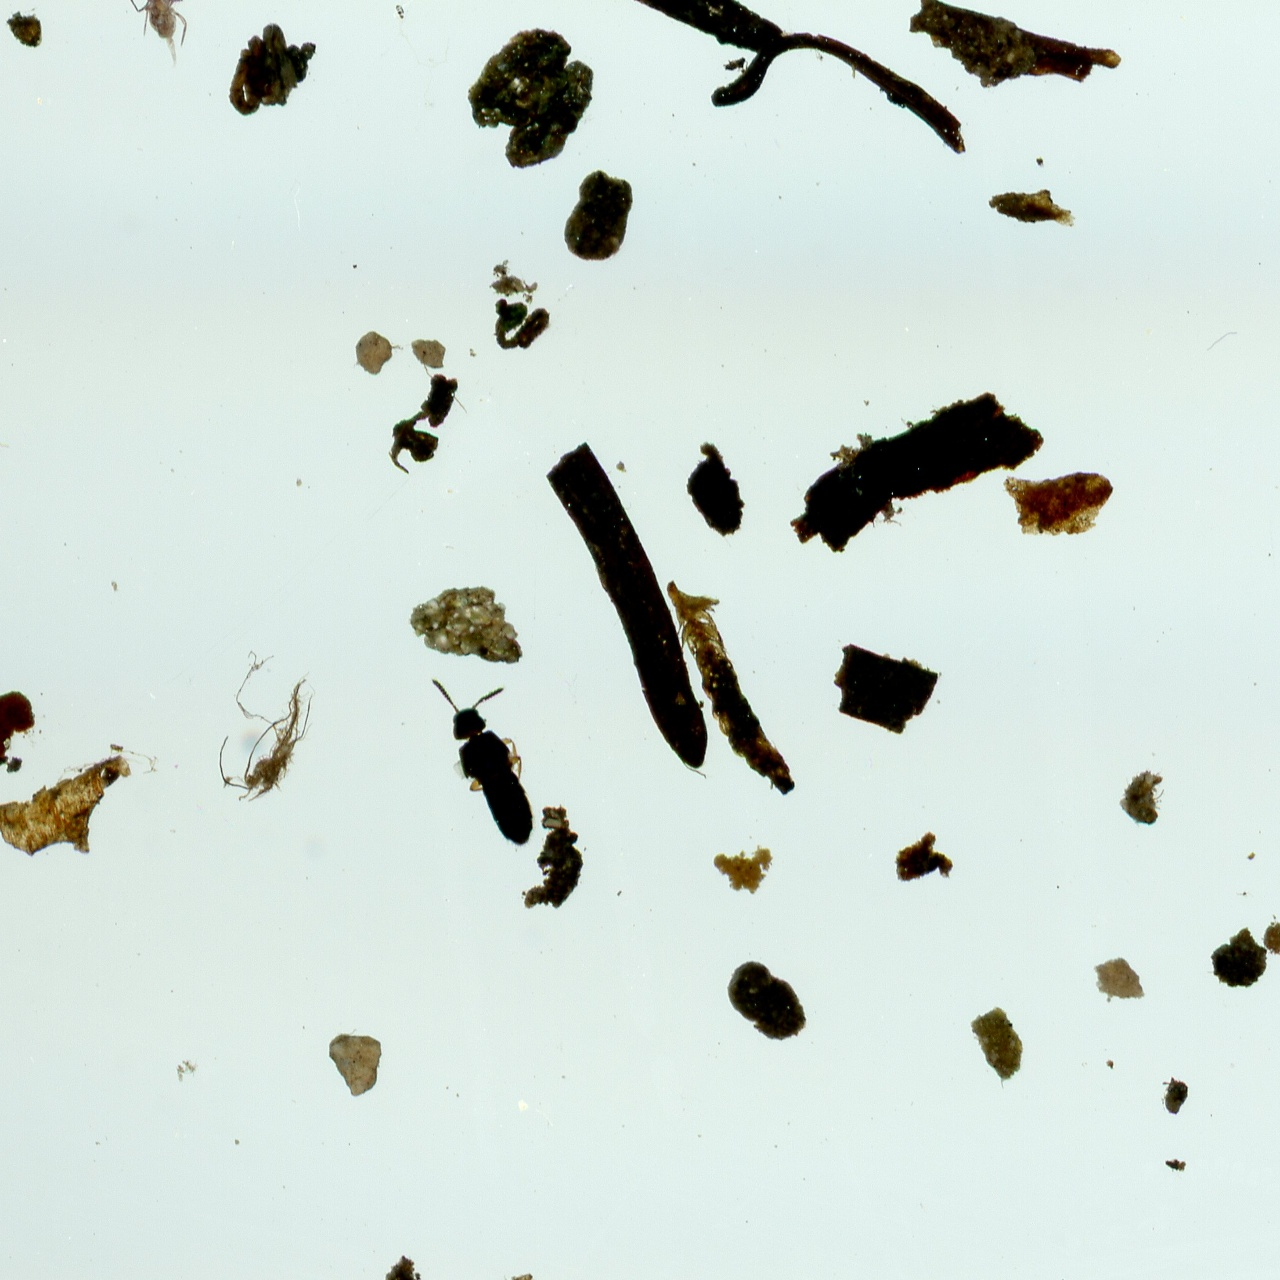arthropod: (412, 651, 564, 871), (116, 0, 193, 71)
